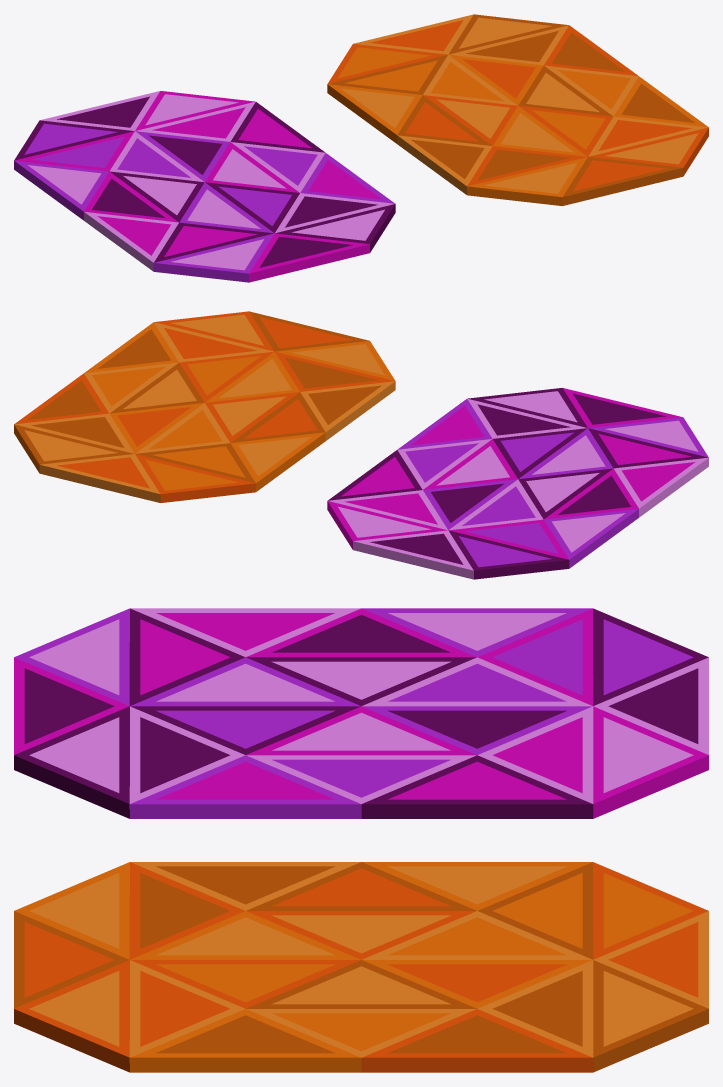
Rendered from bridges (1).fbx.
The picture shows the model from 3 angles, top to bottom: view 1: azimuth 30°, elevation 25°; view 2: azimuth 150°, elevation 25°; view 3: azimuth 270°, elevation 25°; orthographic projection. The views are drawn at different scales.
Visible parts, largest first — view 1: Plane.002, Plane; view 2: Plane.002, Plane; view 3: Plane.002, Plane.
Part boxes in pixels (x1,y1,x2,y2): Plane.002: (14, 91, 395, 282); Plane: (327, 14, 708, 205); Plane.002: (327, 388, 708, 579); Plane: (14, 311, 395, 502); Plane.002: (14, 608, 708, 818); Plane: (14, 862, 708, 1072).
Size of the model in its own units: 1298 by 20 by 849.
